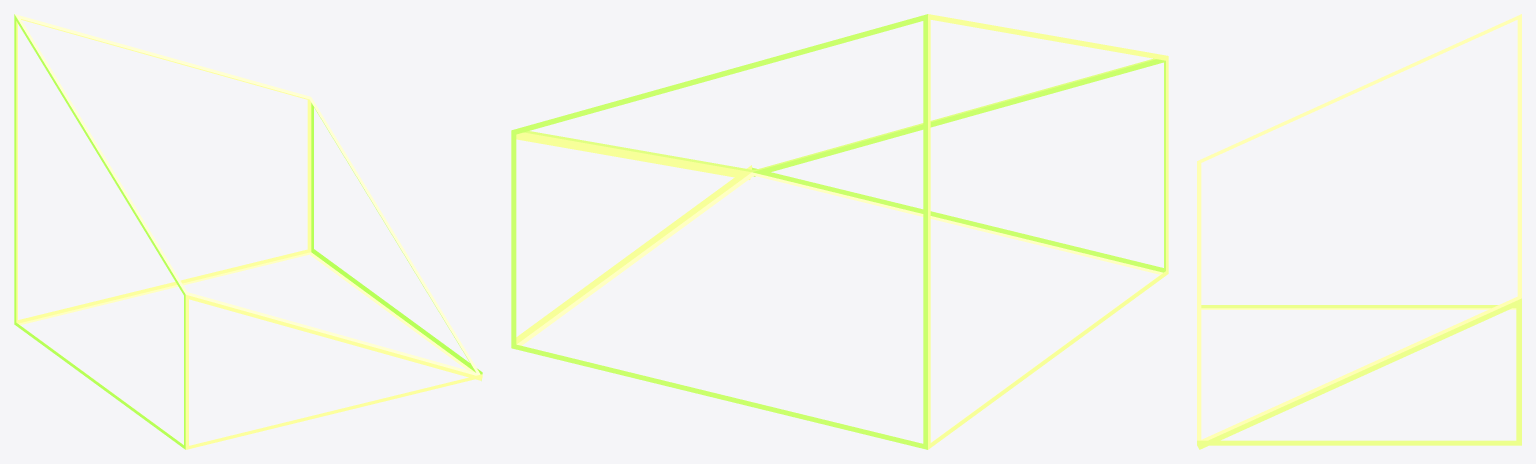
File: r2c3_highlight_green.glb
3 renders of one model, left to right at view 1: azimuth 30°, elevation 25°; view 2: azimuth 150°, elevation 25°; view 3: azimuth 270°, elevation 25°, orthographic. The views are drawn at different scales.
Visible parts, largest first — view 1: r2c3_highlight_green; view 2: r2c3_highlight_green; view 3: r2c3_highlight_green.
Part boxes in pixels (x1,y1,x2,y2): r2c3_highlight_green: [14, 14, 482, 449]; r2c3_highlight_green: [511, 14, 1168, 449]; r2c3_highlight_green: [1197, 14, 1521, 449].
Size of the model in its own units: 2 by 2.03 by 2.
